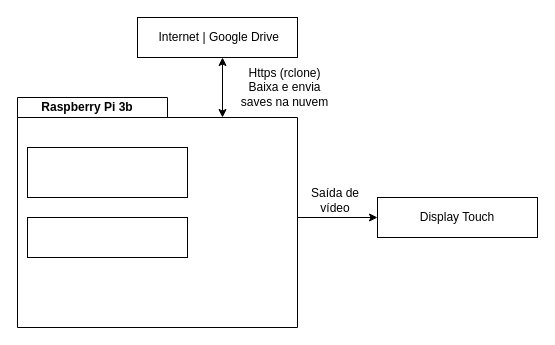
Image size: 555x345. Some labels were removed from this diagram. The centre of each missing label's shape, as x and y in pixels:
"Controles (USB / GPIO) Gpionext (processa GPIO em controle virtual)" belongs at pixel 107 172.
"Retropie (Sistema Operacional)" belongs at pixel 107 237.
